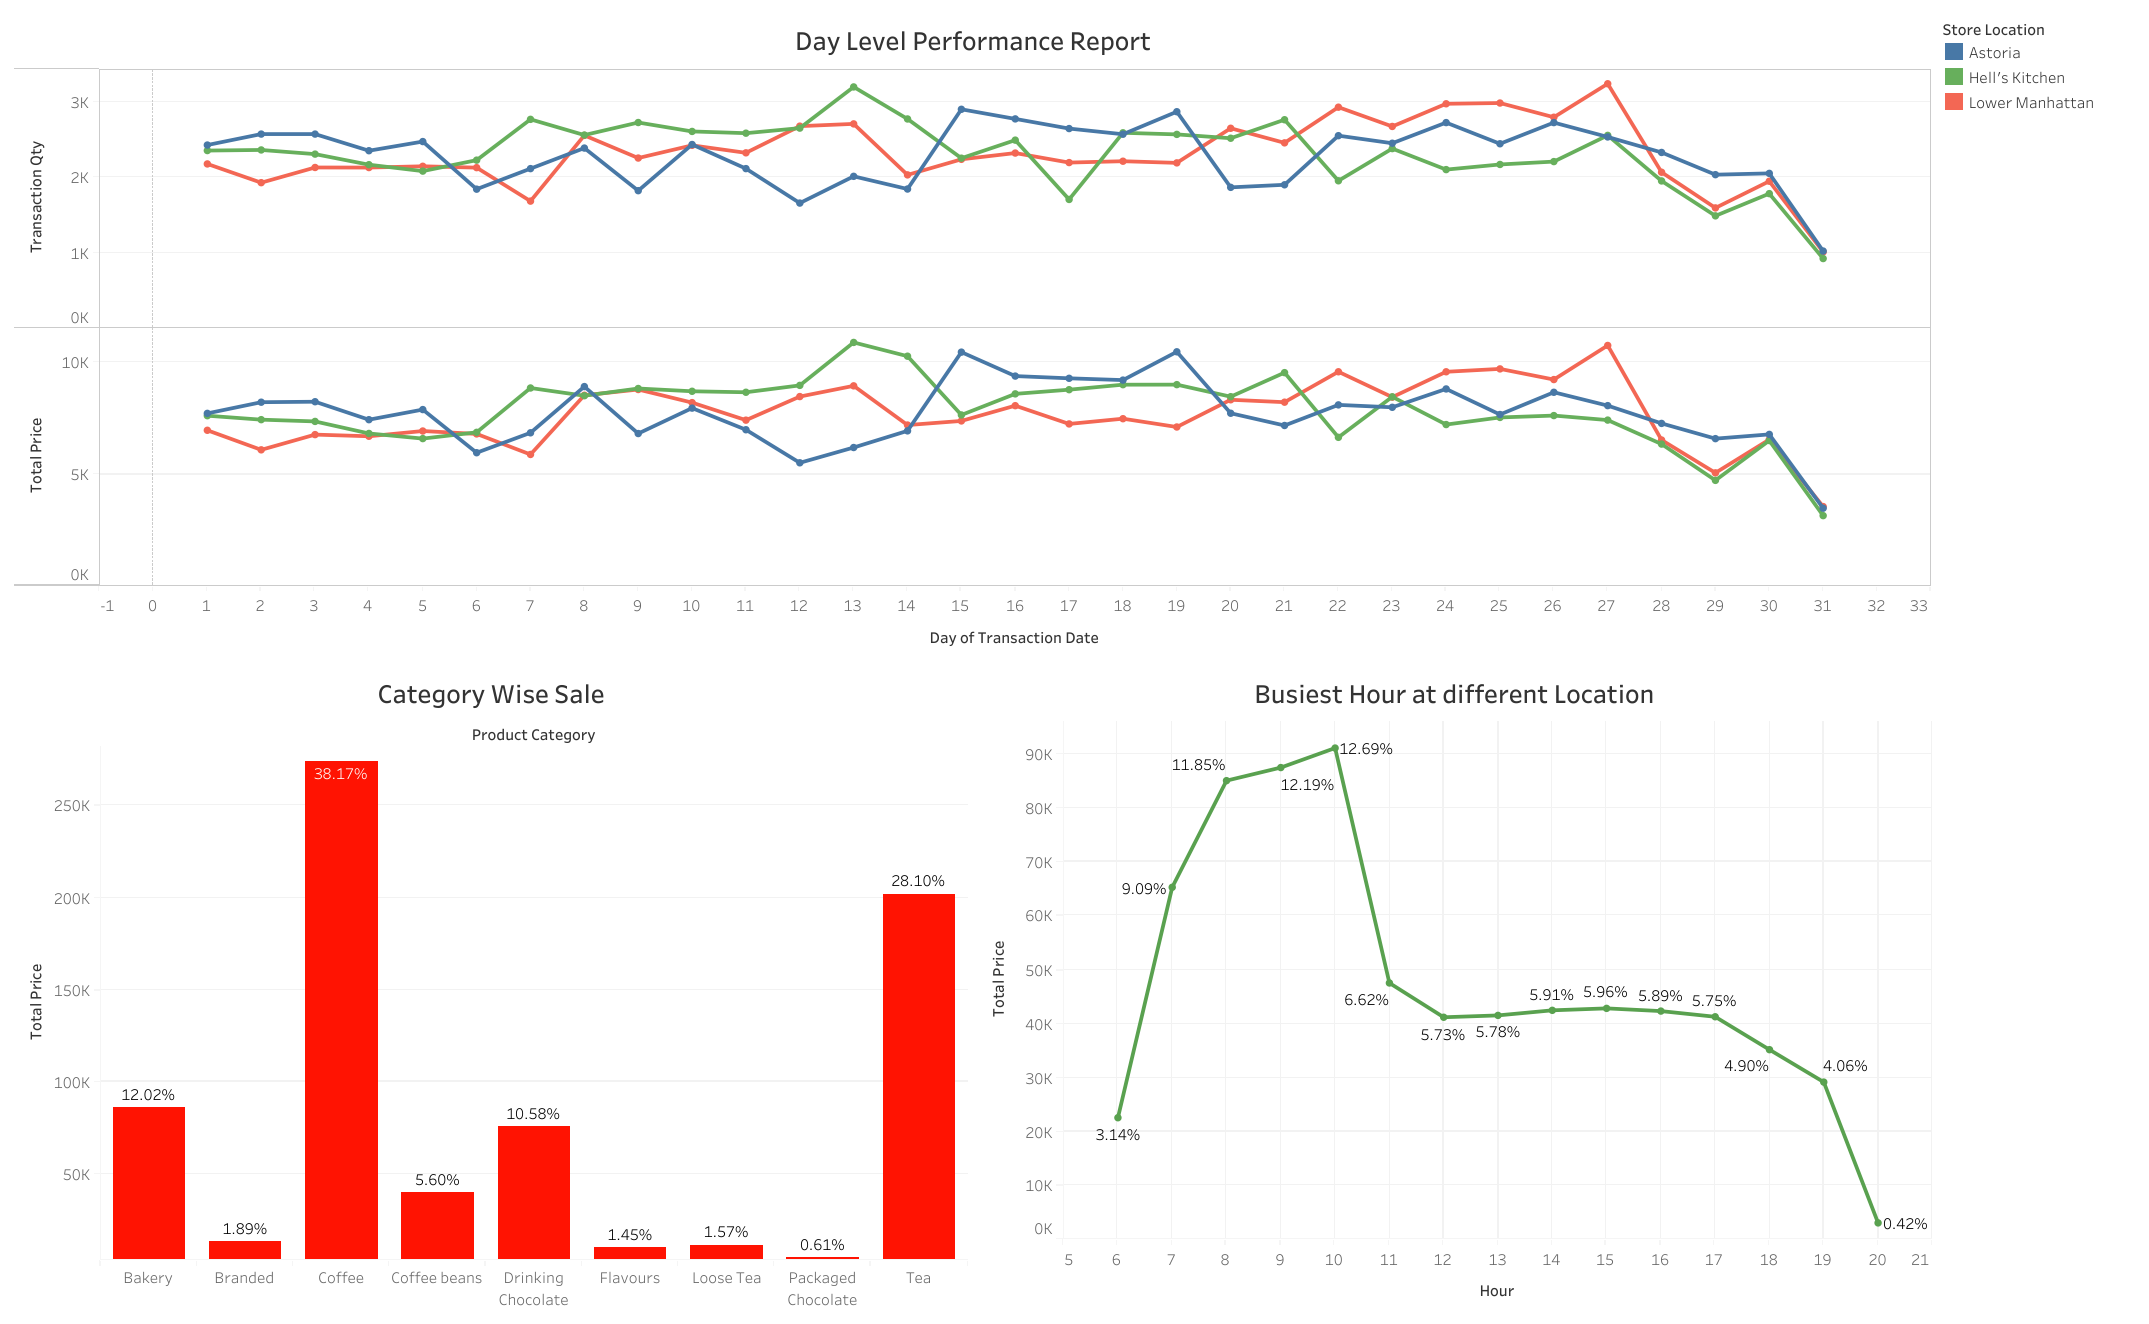

The dashboard page shown, as its layout file describes it:
{"tool":"tableau","page":{"name":"Dashboard 4","canvas":[1720,1060],"ordinal":3},"visuals":[{"type":"worksheet","title":"Sheet 6","mark":"Automatic","rows":["transaction_qty","Total_Price"],"cols":["transaction_date"],"box":[8,8,1541,522]},{"type":"legend","title":"Sheet 6","param":"[federated.0rx5np41p9akde1g75f681uc48si].[none:store_location:nk]","box":[1549,8,163,93]},{"type":"worksheet","title":"Sheet 7","mark":"Automatic","rows":["Total_Price"],"cols":["product_category"],"box":[8,530,770.5,522]},{"type":"worksheet","title":"Sheet 8","mark":"Automatic","rows":["Total_Price"],"cols":["Hour"],"box":[778.5,530,770.5,522]}]}

Visuals, with their boxes in screenshot pixels (x1, y1, x2, y2), scaled from the page's 1720x1060 canvas onto the 2149x1324 screenshot:
"Sheet 6" worksheet: detection(10, 10, 1935, 662)
"Sheet 6" legend: detection(1935, 10, 2139, 126)
"Sheet 7" worksheet: detection(10, 662, 973, 1314)
"Sheet 8" worksheet: detection(973, 662, 1935, 1314)
